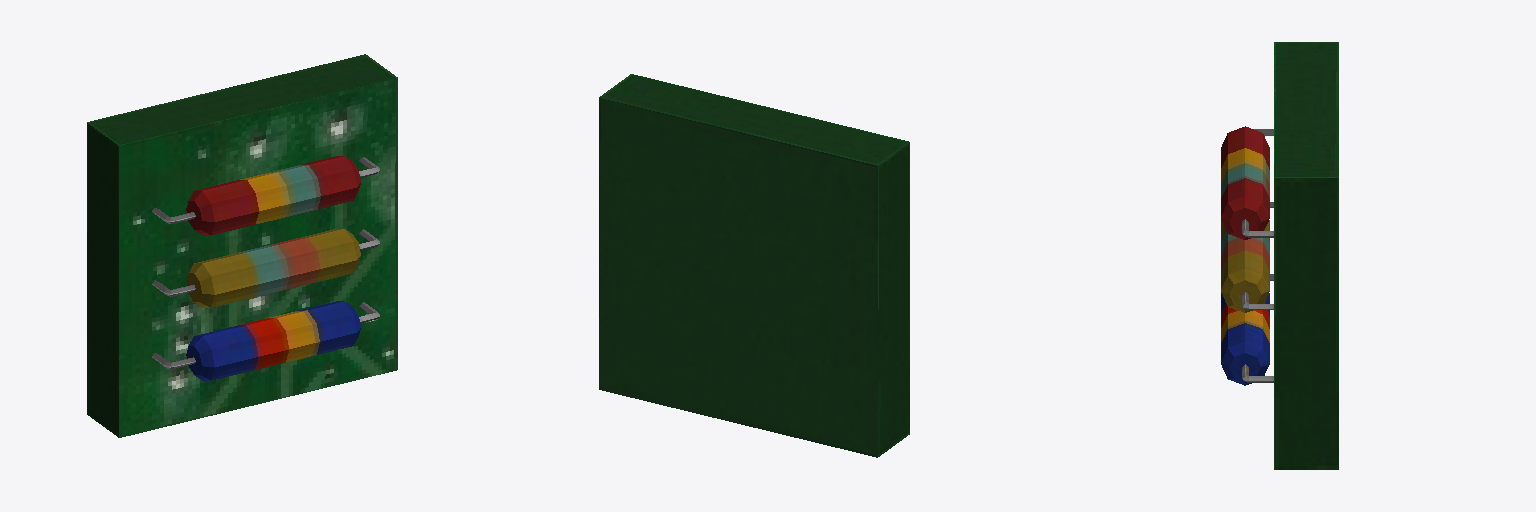
3 renders of one model, left to right at view 1: azimuth 30°, elevation 25°; view 2: azimuth 150°, elevation 25°; view 3: azimuth 270°, elevation 25°, orthographic.
Visible parts, largest first — view 1: Object08; view 2: Object08; view 3: Object08.
Boxes of the visible parts, <box> form: Object08: <box>87,54,397,437</box>; Object08: <box>599,74,909,457</box>; Object08: <box>1221,42,1338,469</box>.
Bounding box in the file's own units: 20.04 × 20.04 × 7.39.
1 materials, 1 textured.